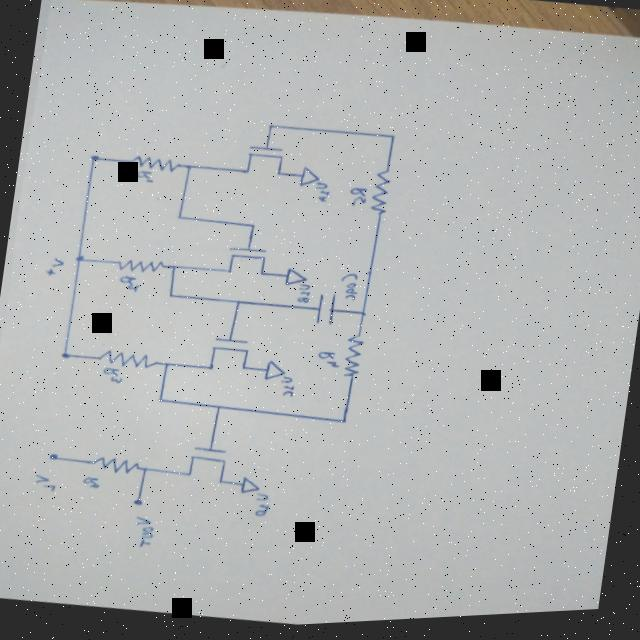capacitor: (312, 293, 342, 333)
ground: (296, 167, 323, 191), (264, 360, 288, 385), (238, 476, 262, 498), (284, 269, 308, 291)
junction: (212, 401, 226, 415), (74, 253, 87, 265), (58, 350, 71, 362), (246, 223, 259, 233), (89, 153, 101, 163), (155, 396, 166, 406), (264, 125, 276, 133), (387, 136, 398, 144), (357, 313, 368, 321), (232, 301, 244, 308), (175, 213, 184, 222), (183, 164, 193, 172), (162, 361, 172, 369), (141, 465, 149, 475), (338, 420, 349, 427), (170, 265, 179, 272), (167, 293, 176, 300)
resistor: (95, 345, 161, 375), (368, 168, 396, 223), (126, 152, 182, 176), (87, 452, 140, 477), (341, 335, 368, 384), (115, 254, 167, 279)
terminal: (130, 496, 146, 511), (46, 450, 61, 463)
text: (132, 516, 158, 550), (31, 471, 58, 497), (338, 275, 360, 305), (346, 186, 369, 212), (315, 352, 341, 375), (252, 493, 271, 521), (117, 274, 141, 294), (100, 366, 124, 386), (313, 182, 332, 207), (44, 256, 66, 277), (278, 377, 296, 401), (296, 285, 314, 308), (134, 170, 155, 188), (81, 475, 102, 492)
transistor: (183, 442, 230, 489), (204, 335, 252, 379), (221, 243, 271, 284), (242, 143, 288, 186)
